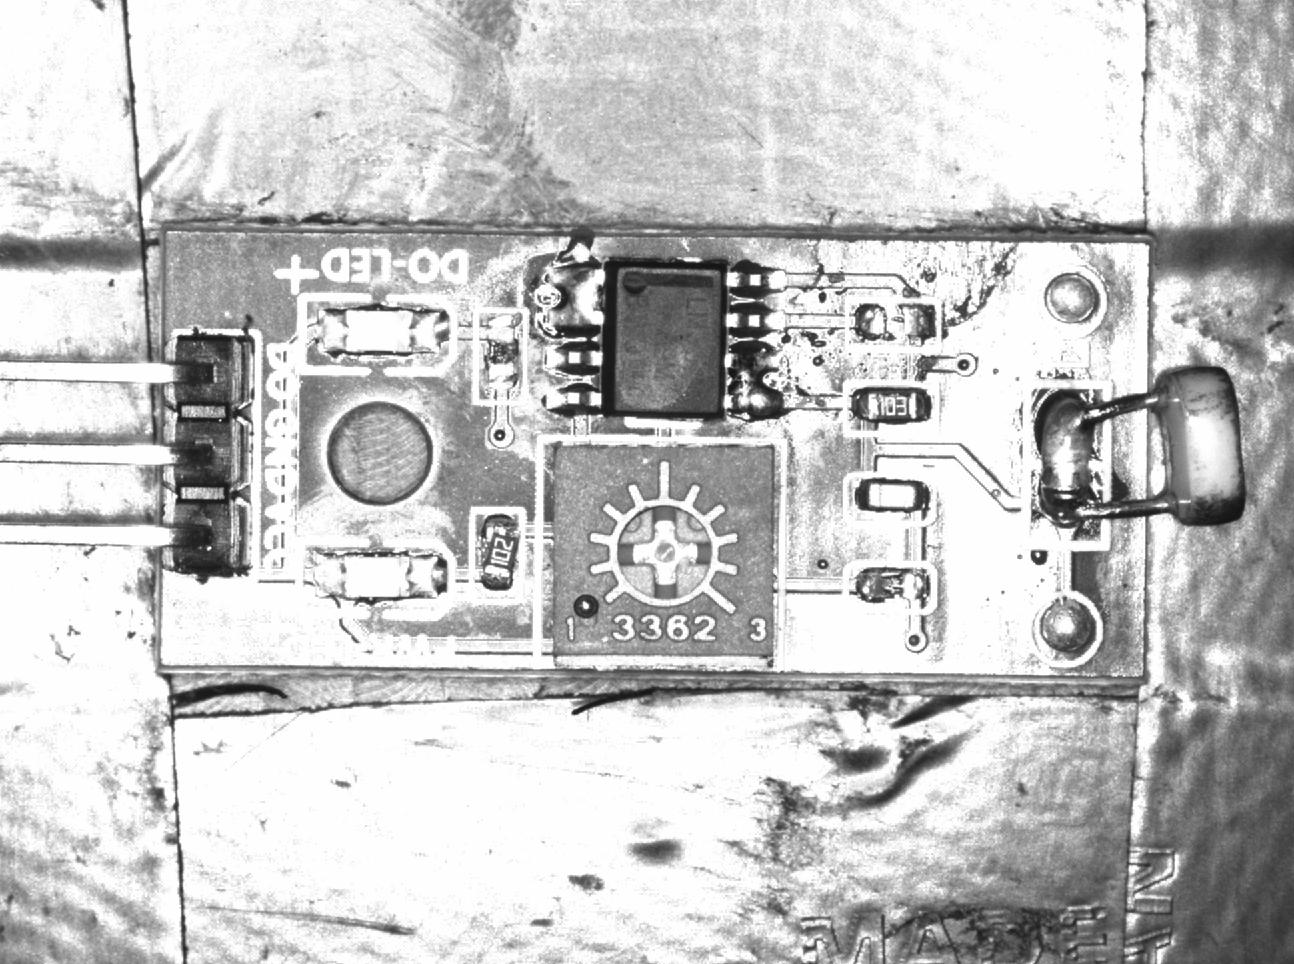bridge: (1023, 382, 1111, 551), (540, 258, 608, 338), (726, 338, 786, 421)
lifted: (473, 509, 527, 600)
miss: (846, 296, 946, 356), (846, 561, 938, 614), (473, 304, 521, 400)
ok: (845, 376, 941, 436), (845, 475, 940, 520)
